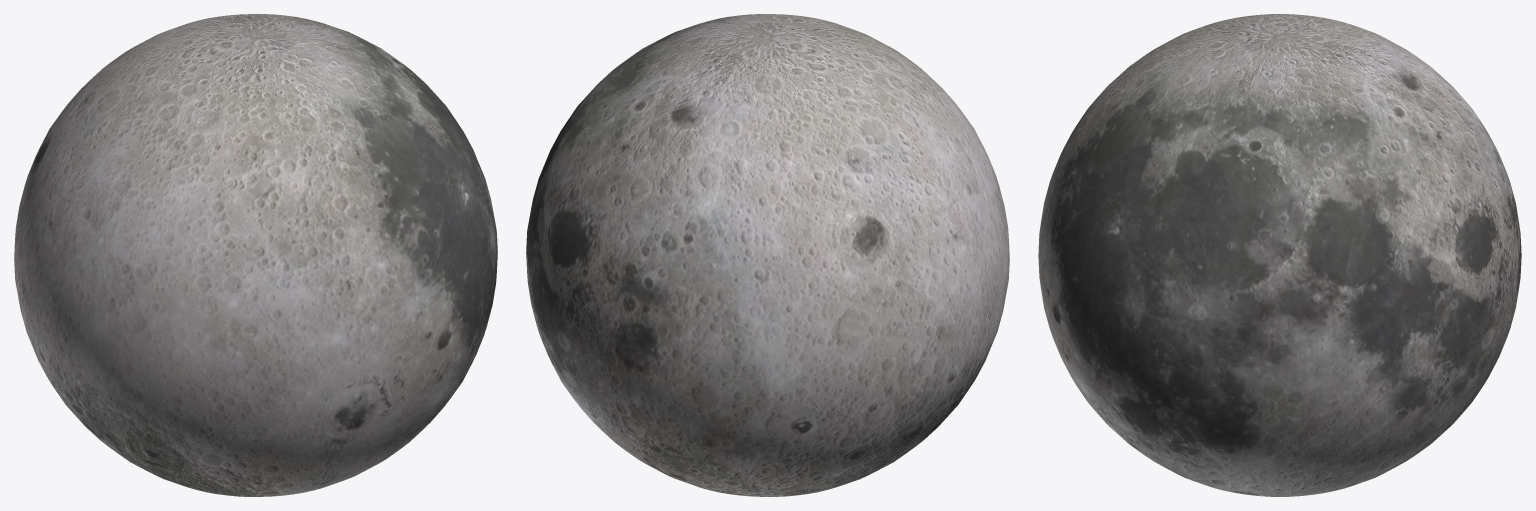
File: moon-transformed.glb
The picture shows the model from 3 angles, left to right: view 1: azimuth 30°, elevation 25°; view 2: azimuth 150°, elevation 25°; view 3: azimuth 270°, elevation 25°; orthographic projection.
Visible parts, largest first — view 1: Sphere_Material.001_0; view 2: Sphere_Material.001_0; view 3: Sphere_Material.001_0.
Boxes of the visible parts, x1,y1,x2,y2 form: Sphere_Material.001_0: (14, 14, 497, 496); Sphere_Material.001_0: (526, 14, 1009, 496); Sphere_Material.001_0: (1038, 14, 1521, 496).
Bounding box in the file's own units: 20.4 × 20.4 × 20.4.
1 material, 1 textured.
